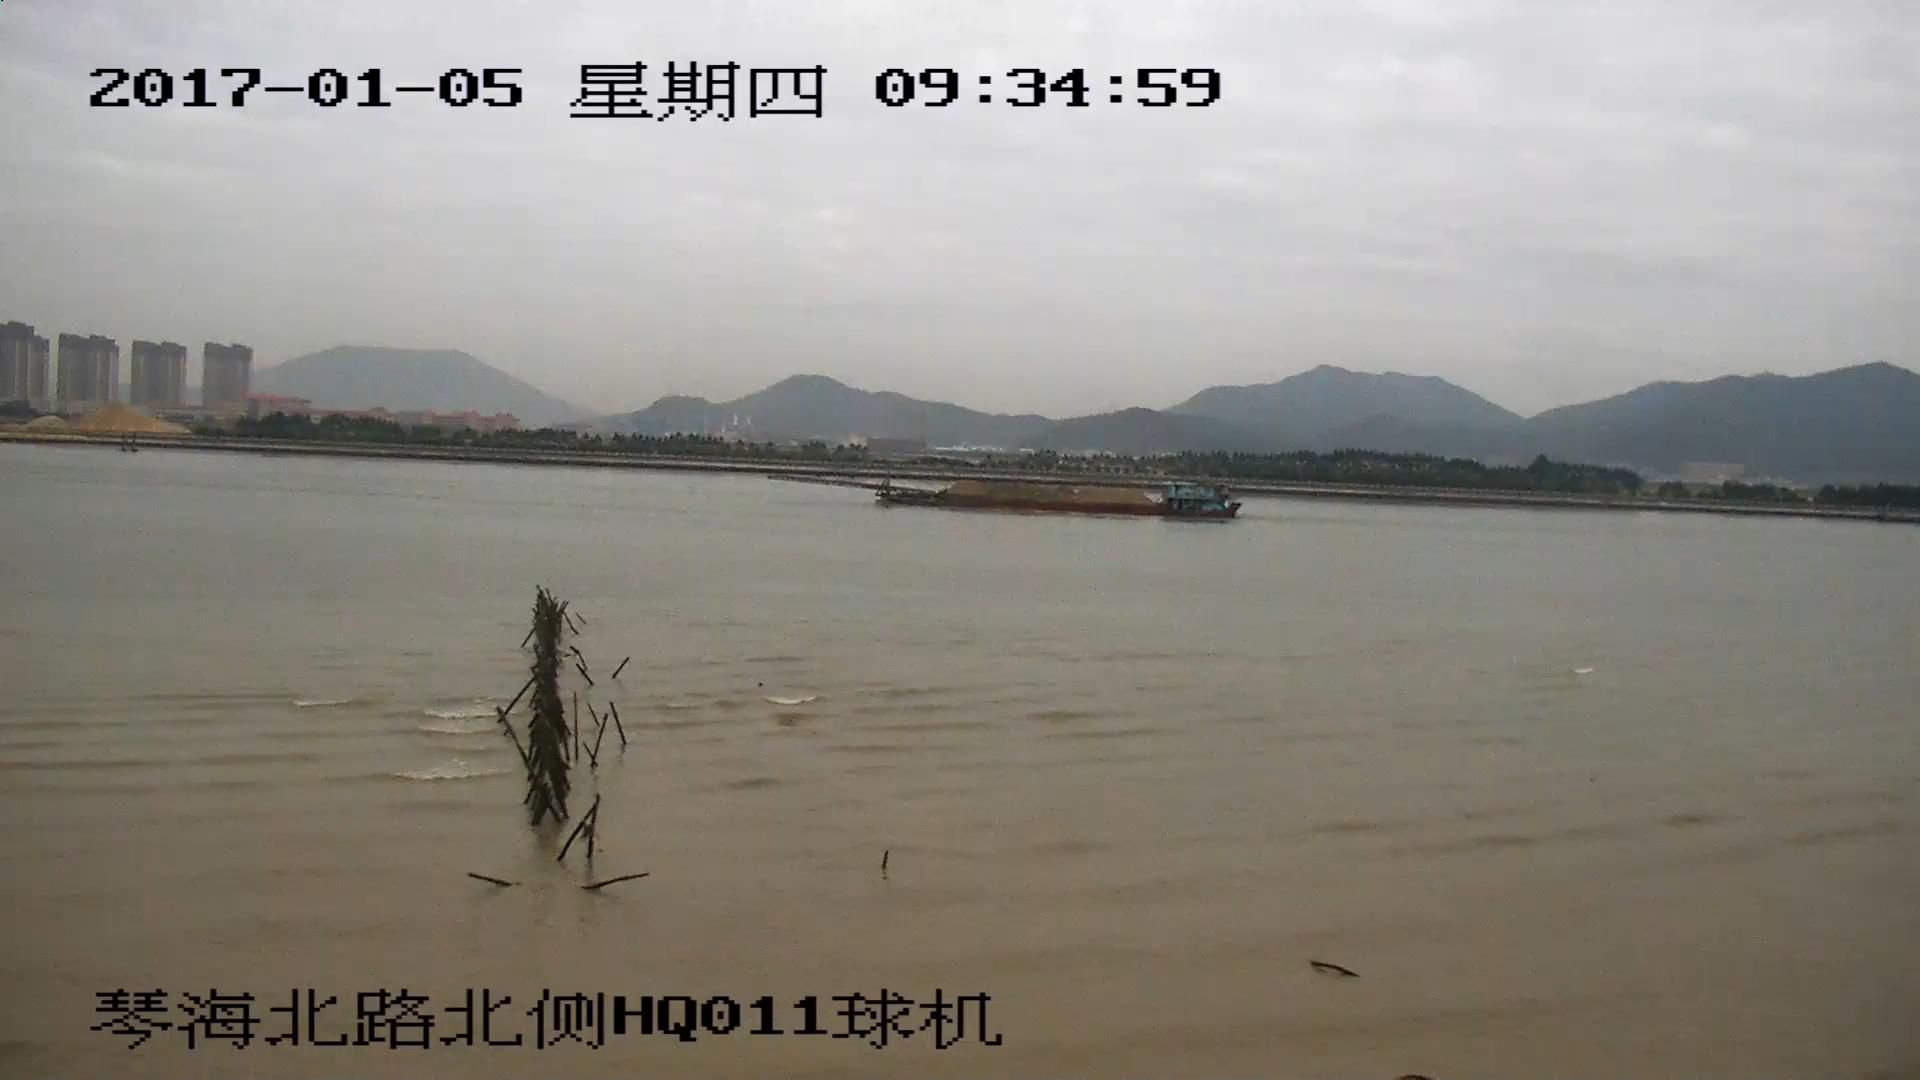ore carrier: (768, 468, 1236, 524)
